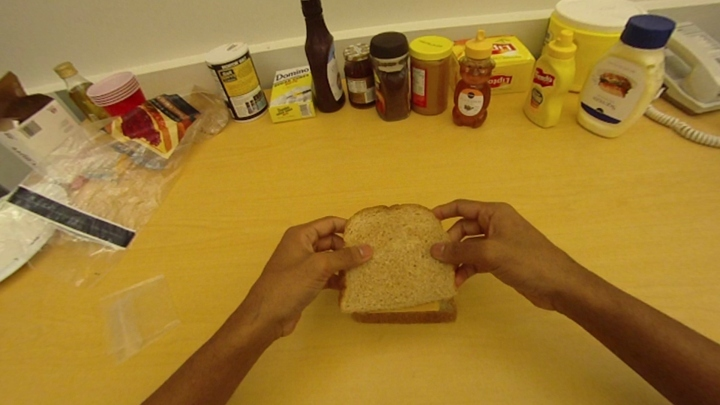hand: (417, 195, 554, 306), (255, 213, 372, 326)
